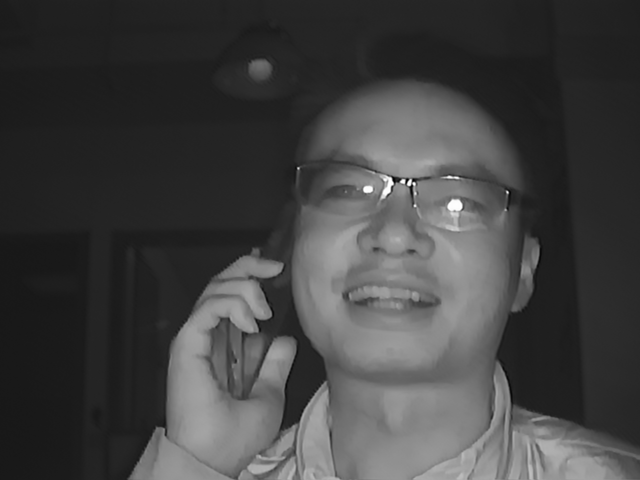hand: (163, 248, 302, 457)
